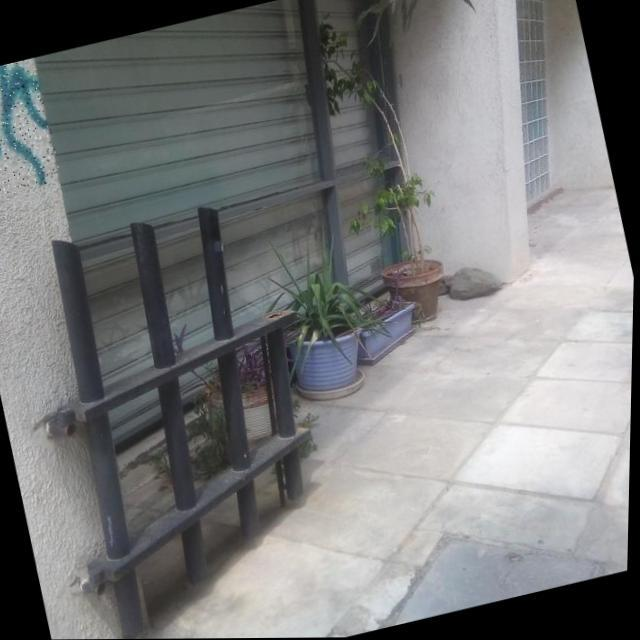-: (0, 57, 64, 203)
